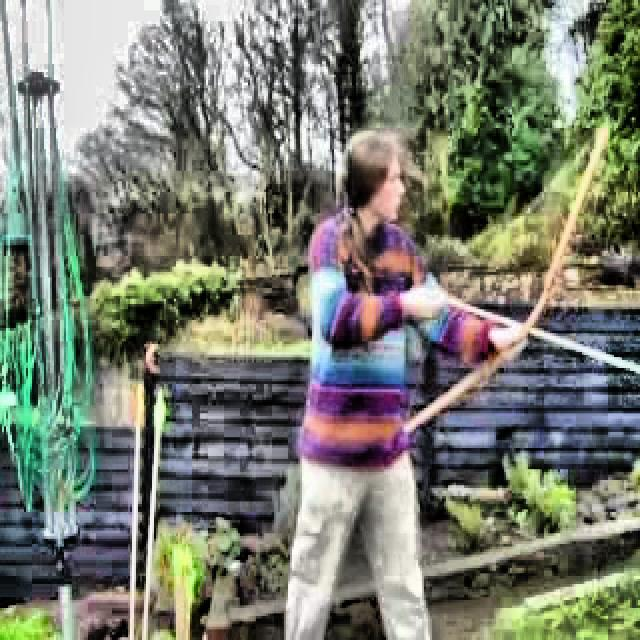I: (284, 114, 519, 640)
